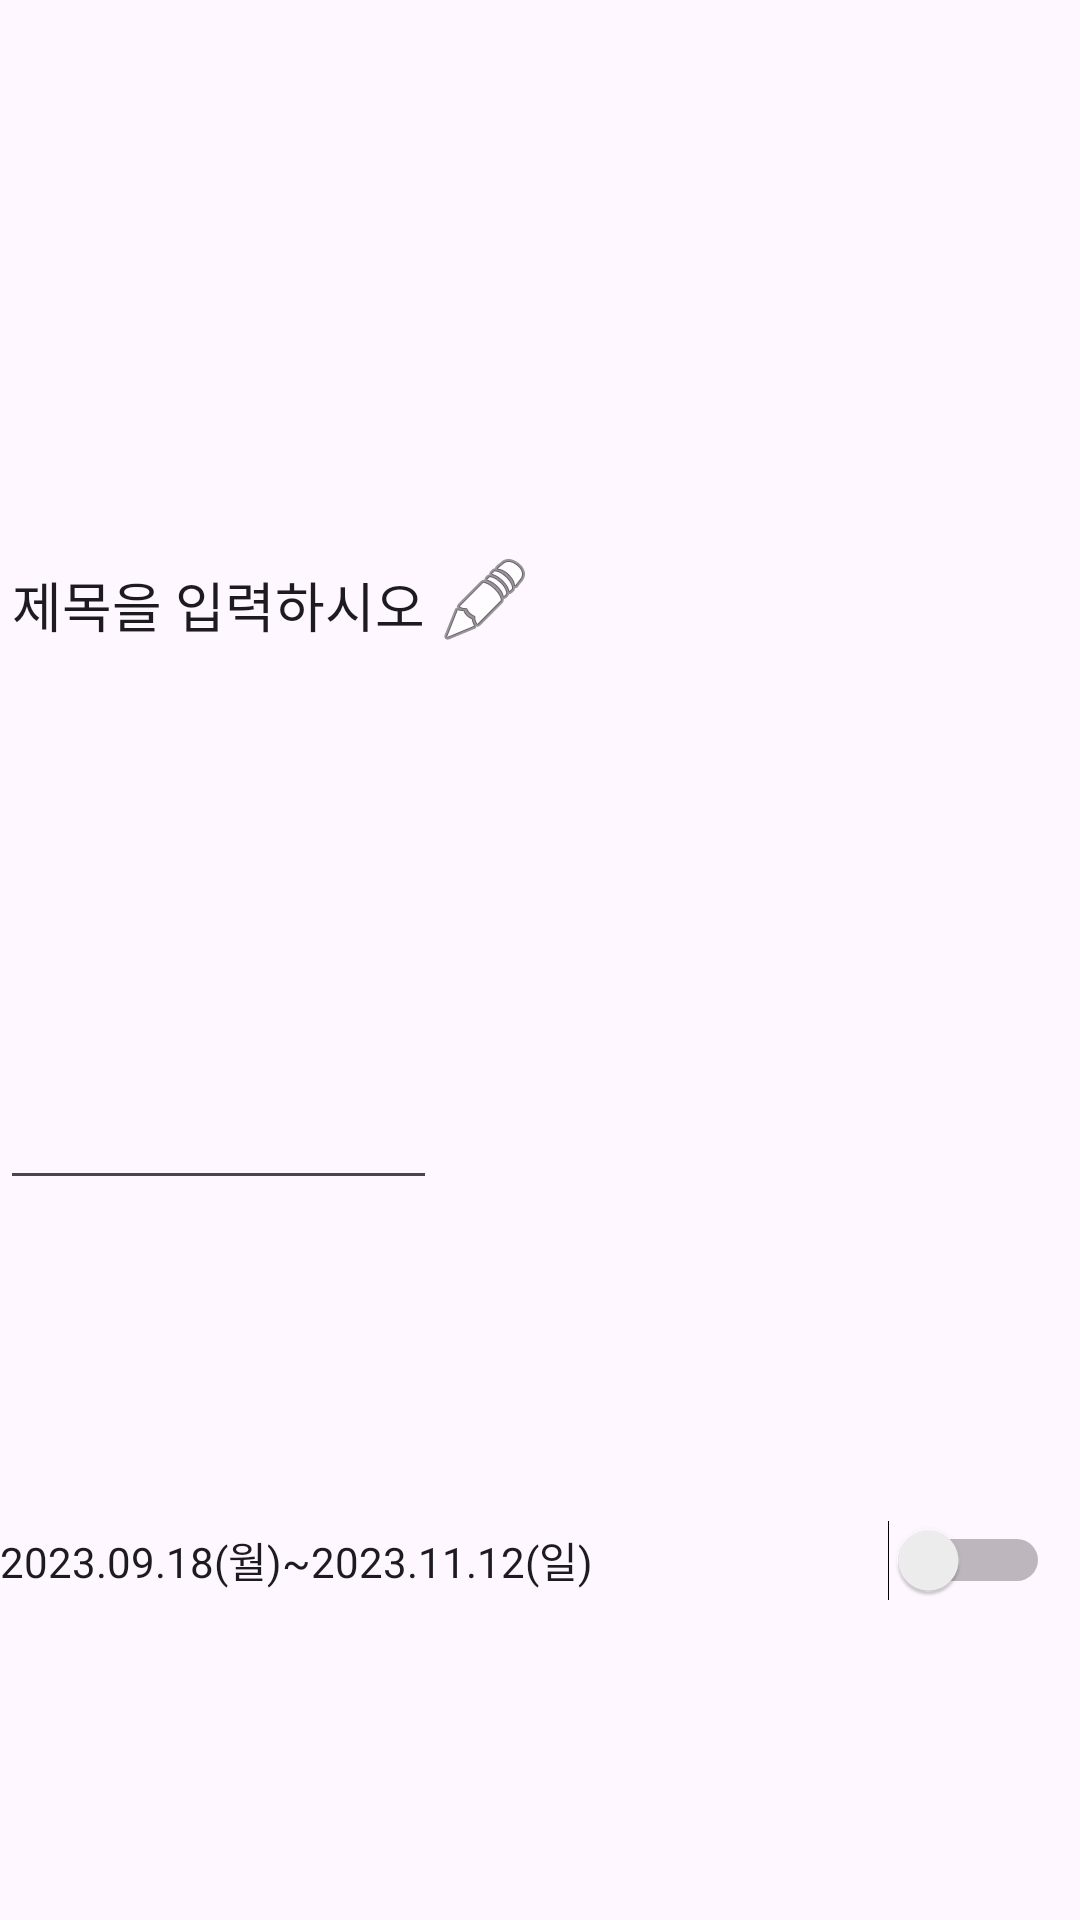

Screen size 1080×1920. Icon name, then its box in pixels as (x1, y1, x2, y2):
edit: (444, 559, 525, 640)
